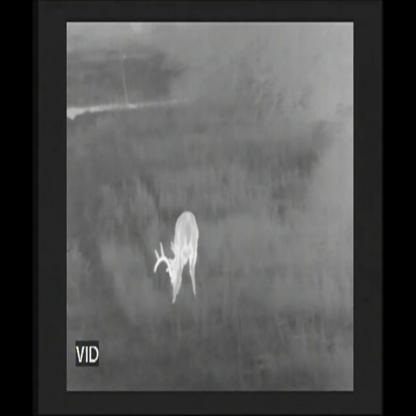rehkitze: (154, 210, 203, 307)
